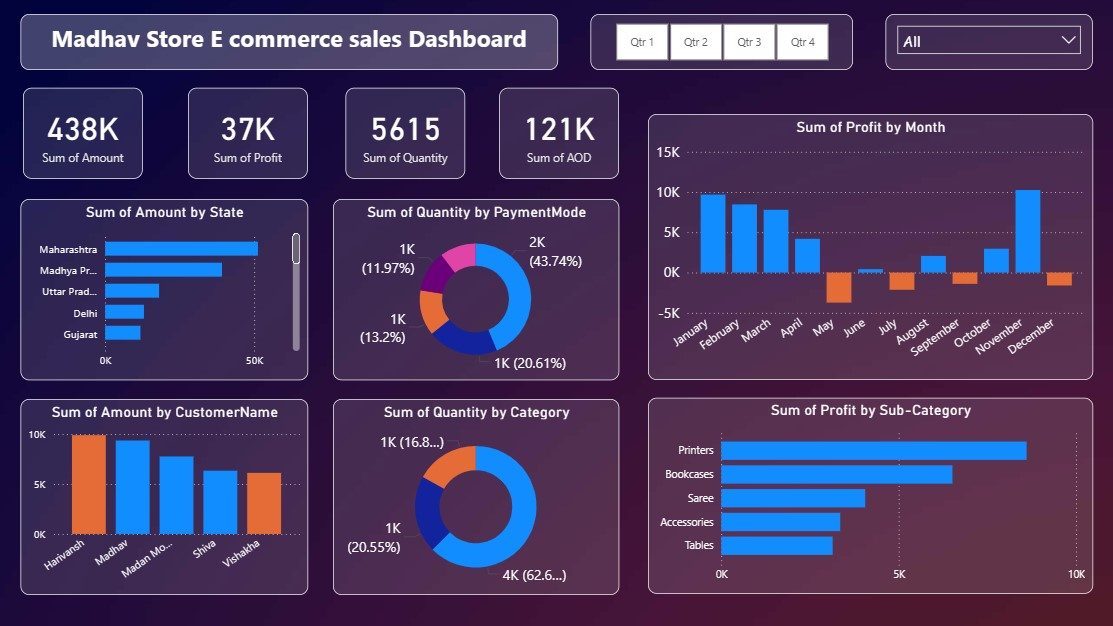

What the dashboard file says about the page in this screenshot:
{"tool":"powerbi","page":{"name":"Page 1","canvas":[1280,720],"ordinal":0},"visuals":[{"type":"textbox","box":[25.7,17.1,614.3,64.3],"z":0},{"type":"columnChart","fields":{"Category":["Orders.Order Date.Variation.Date Hierarchy.Month"],"Y":["Details.Profit"]},"box":[742.9,131.1,508.6,304.3],"z":1000},{"type":"barChart","fields":{"Category":["Details.Sub-Category"],"Y":["Details.Profit"]},"box":[742.9,455.7,508.6,224.3],"z":2000},{"type":"donutChart","fields":{"Category":["Details.Category"],"Y":["Details.Quantity"]},"box":[382.9,457.1,327.1,224.3],"z":3000},{"type":"donutChart","fields":{"Y":["Details.Quantity"],"Category":["Details.PaymentMode"]},"box":[382.9,228.6,327.1,207.1],"z":4000},{"type":"card","fields":{"Values":["Details.Amount"]},"box":[28.6,101.4,137.1,104.3],"z":5000},{"type":"card","fields":{"Values":["Details.AOD"]},"box":[572.9,101.4,137.1,104.3],"z":6000},{"type":"card","fields":{"Values":["Details.Quantity"]},"box":[397.1,101.4,137.1,104.3],"z":7000},{"type":"card","fields":{"Values":["Details.Profit"]},"box":[217.1,101.4,137.1,104.3],"z":8000},{"type":"barChart","fields":{"Category":["Orders.State"],"Y":["Details.Amount"]},"box":[25.7,228.6,328.6,207.1],"z":9000},{"type":"columnChart","fields":{"Category":["Orders.CustomerName"],"Y":["Details.Amount"]},"box":[25.7,457.1,328.6,224.3],"z":10000},{"type":"slicer","fields":{"Values":["Orders.Order Date.Variation.Date Hierarchy.Quarter"]},"box":[677.1,17.1,300,64.3],"z":11000},{"type":"slicer","fields":{"Values":["Orders.State"]},"box":[1014.3,17.1,237.1,64.3],"z":11001}]}

Visuals, with their boxes in screenshot pixels (x1, y1, x2, y2), scaled from the page's 1280x720 canvas onto the 1113x626 screenshot:
textbox: [22, 15, 556, 71]
columnChart - Orders.Order Date.Variation.Date Hierarchy.Month x Details.Profit: [646, 114, 1088, 379]
barChart - Details.Sub-Category x Details.Profit: [646, 396, 1088, 591]
donutChart - Details.Category x Details.Quantity: [333, 397, 617, 592]
donutChart - Details.Quantity x Details.PaymentMode: [333, 199, 617, 379]
card - Details.Amount: [25, 88, 144, 179]
card - Details.AOD: [498, 88, 617, 179]
card - Details.Quantity: [345, 88, 465, 179]
card - Details.Profit: [189, 88, 308, 179]
barChart - Orders.State x Details.Amount: [22, 199, 308, 379]
columnChart - Orders.CustomerName x Details.Amount: [22, 397, 308, 592]
slicer - Orders.Order Date.Variation.Date Hierarchy.Quarter: [589, 15, 850, 71]
slicer - Orders.State: [882, 15, 1088, 71]
